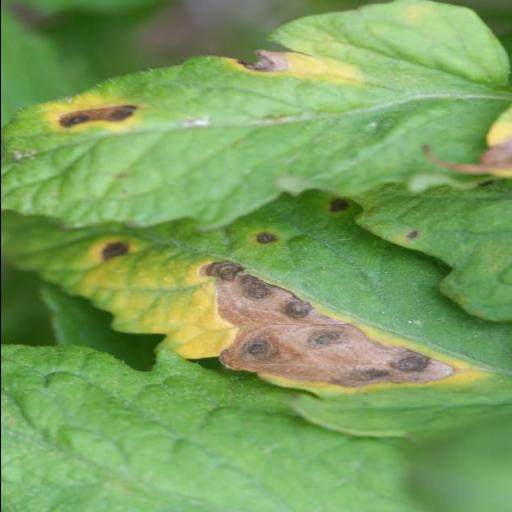disease_tomato: (0, 3, 512, 232), (76, 218, 506, 406)
